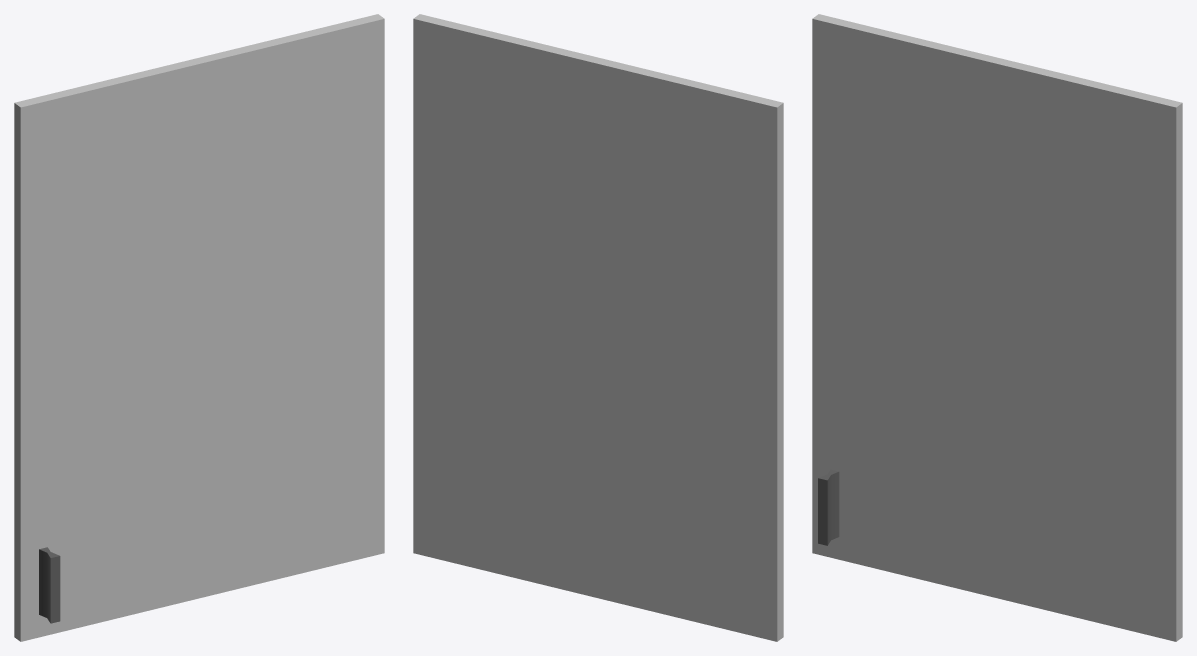
Rendered from MuebleCocina_Puerta_dere.fbx.
The picture shows the model from 3 angles, left to right: view 1: azimuth 30°, elevation 25°; view 2: azimuth 150°, elevation 25°; view 3: azimuth 330°, elevation 25°; orthographic projection.
Visible parts, largest first — view 1: MuebleCocina_Puerta_dere; view 2: MuebleCocina_Puerta_dere; view 3: MuebleCocina_Puerta_dere.
Boxes of the visible parts, x1,y1,x2,y2 form: MuebleCocina_Puerta_dere: (14,14,384,641); MuebleCocina_Puerta_dere: (413,14,783,641); MuebleCocina_Puerta_dere: (812,14,1182,641).
Bounding box in the file's own units: 87.37 × 123 × 7.74.
